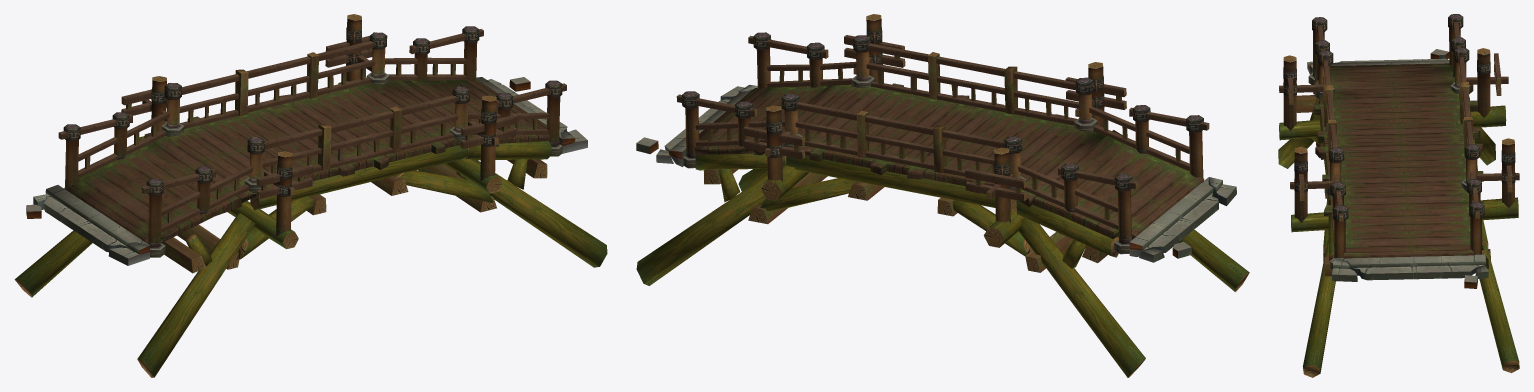
Rendered from Yland3_jz_15 Yland3.FBX.
The picture shows the model from 3 angles, left to right: view 1: azimuth 30°, elevation 25°; view 2: azimuth 150°, elevation 25°; view 3: azimuth 270°, elevation 25°; orthographic projection. The views are drawn at different scales.
Visible parts, largest first — view 1: Yland3_jz_15 Yland3; view 2: Yland3_jz_15 Yland3; view 3: Yland3_jz_15 Yland3.
Part boxes in pixels (x1,y1,x2,y2): Yland3_jz_15 Yland3: (14,14,607,377); Yland3_jz_15 Yland3: (636,14,1249,377); Yland3_jz_15 Yland3: (1278,14,1519,377).
Size of the model in its own units: 17.06 by 6.41 by 7.7.
